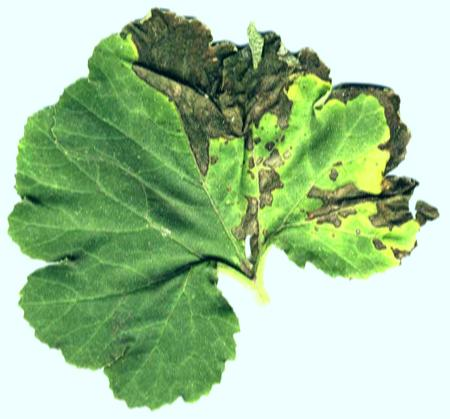Tomato leaf bacterial spot: (125, 7, 430, 280)
